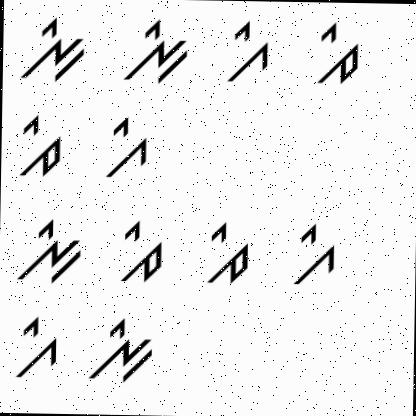gi: (286, 212, 340, 293), (9, 306, 58, 381), (95, 114, 150, 180), (218, 19, 272, 84)
ngi: (16, 13, 91, 87), (14, 212, 87, 285), (120, 16, 193, 88), (86, 315, 156, 384)
ti: (197, 214, 253, 288), (312, 17, 364, 94), (113, 216, 164, 284), (14, 108, 64, 176)
